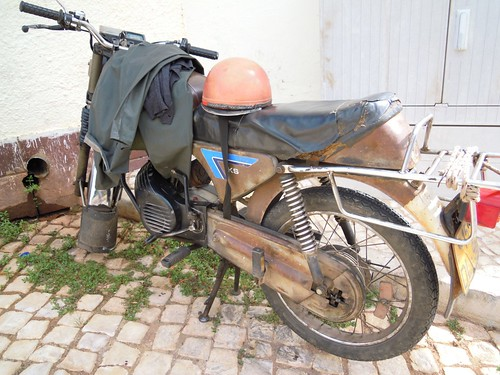motorcycle: (47, 14, 494, 362)
